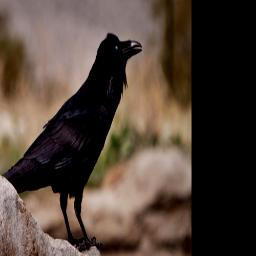Crow: (0, 26, 144, 248)
